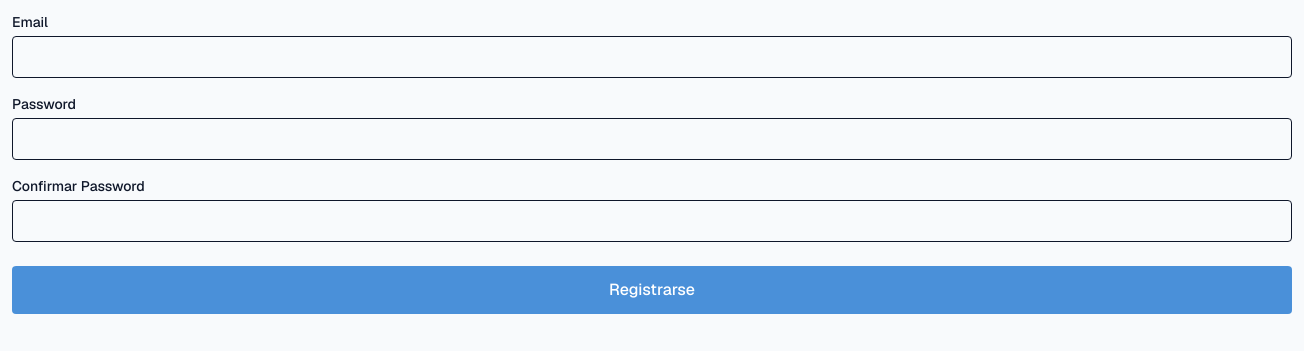
RegisterForm › shows validation errors for invalid email
This screenshot has width=1304, height=351.
Type "invalid-email" into the field labelled "Email" at (652, 57), box top-left (12, 36), bottom-right (1292, 78)
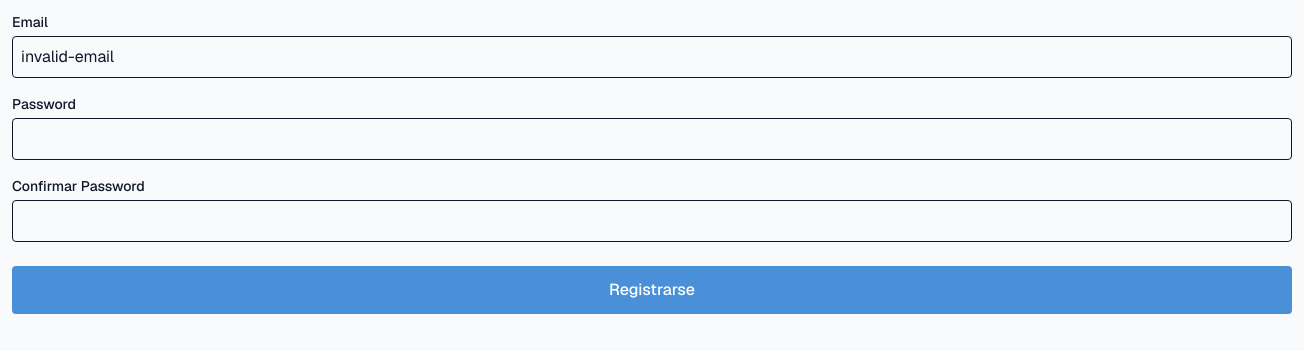
Type "password123" into the password field labelled "Password" at (652, 139), box top-left (12, 118), bottom-right (1292, 160)
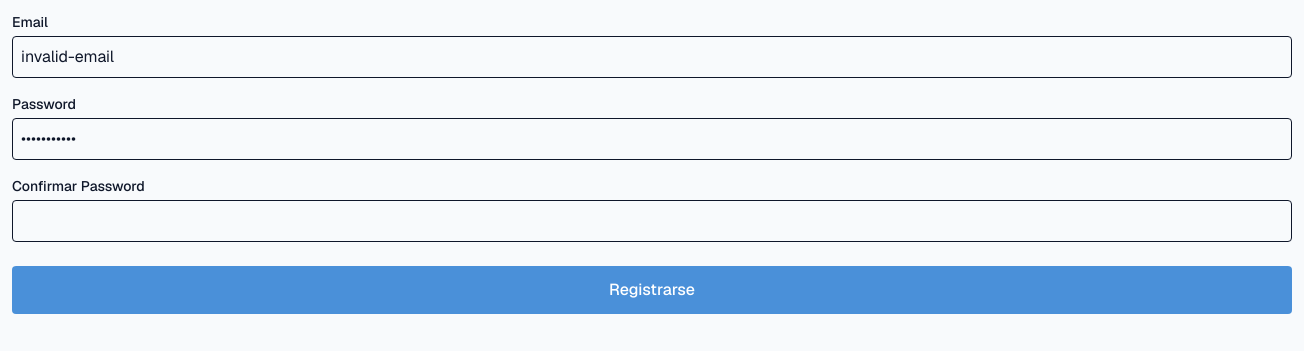
Type "password123" into the password field labelled "Confirmar Password" at (652, 221), box top-left (12, 200), bottom-right (1292, 242)
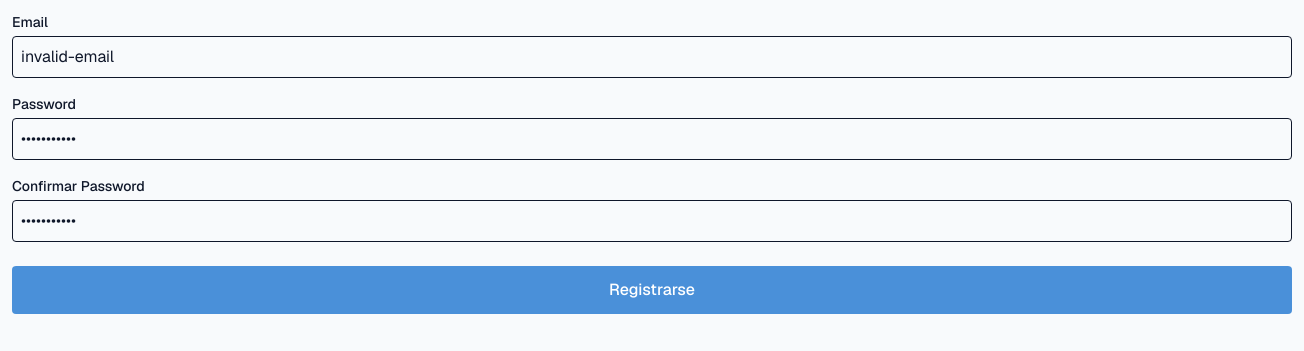
Submit the form
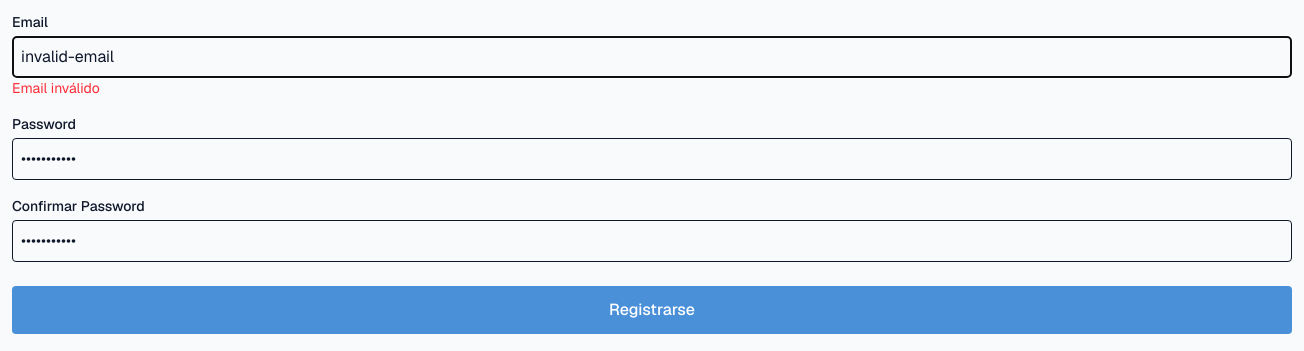
Result: the text "Email inválido" is shown at top-left (12, 79), bottom-right (100, 97)
